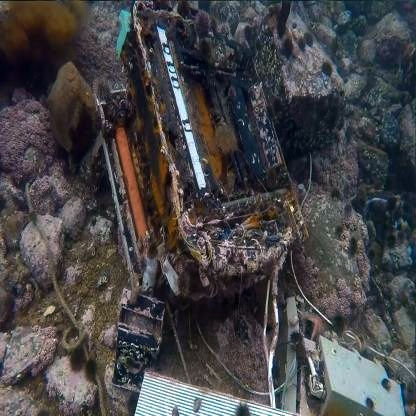electronics: (98, 47, 303, 319)
